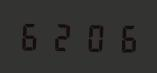six: (18, 18, 47, 52), (108, 20, 137, 54)
two: (48, 19, 77, 52)
zero: (78, 20, 107, 53)
